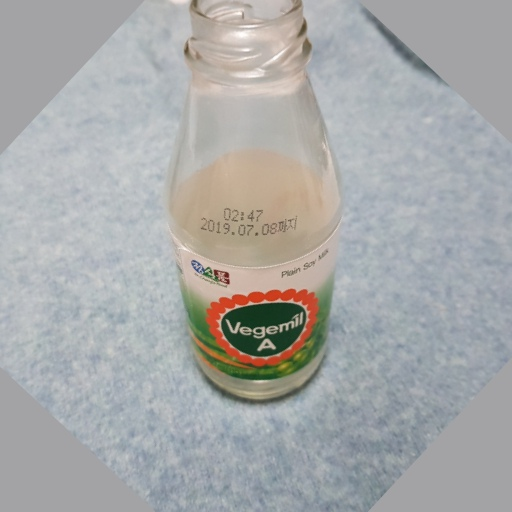Glass_4: (168, 1, 342, 406)
